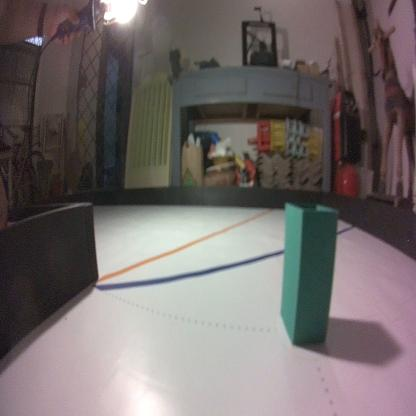green: (278, 200, 338, 349)
